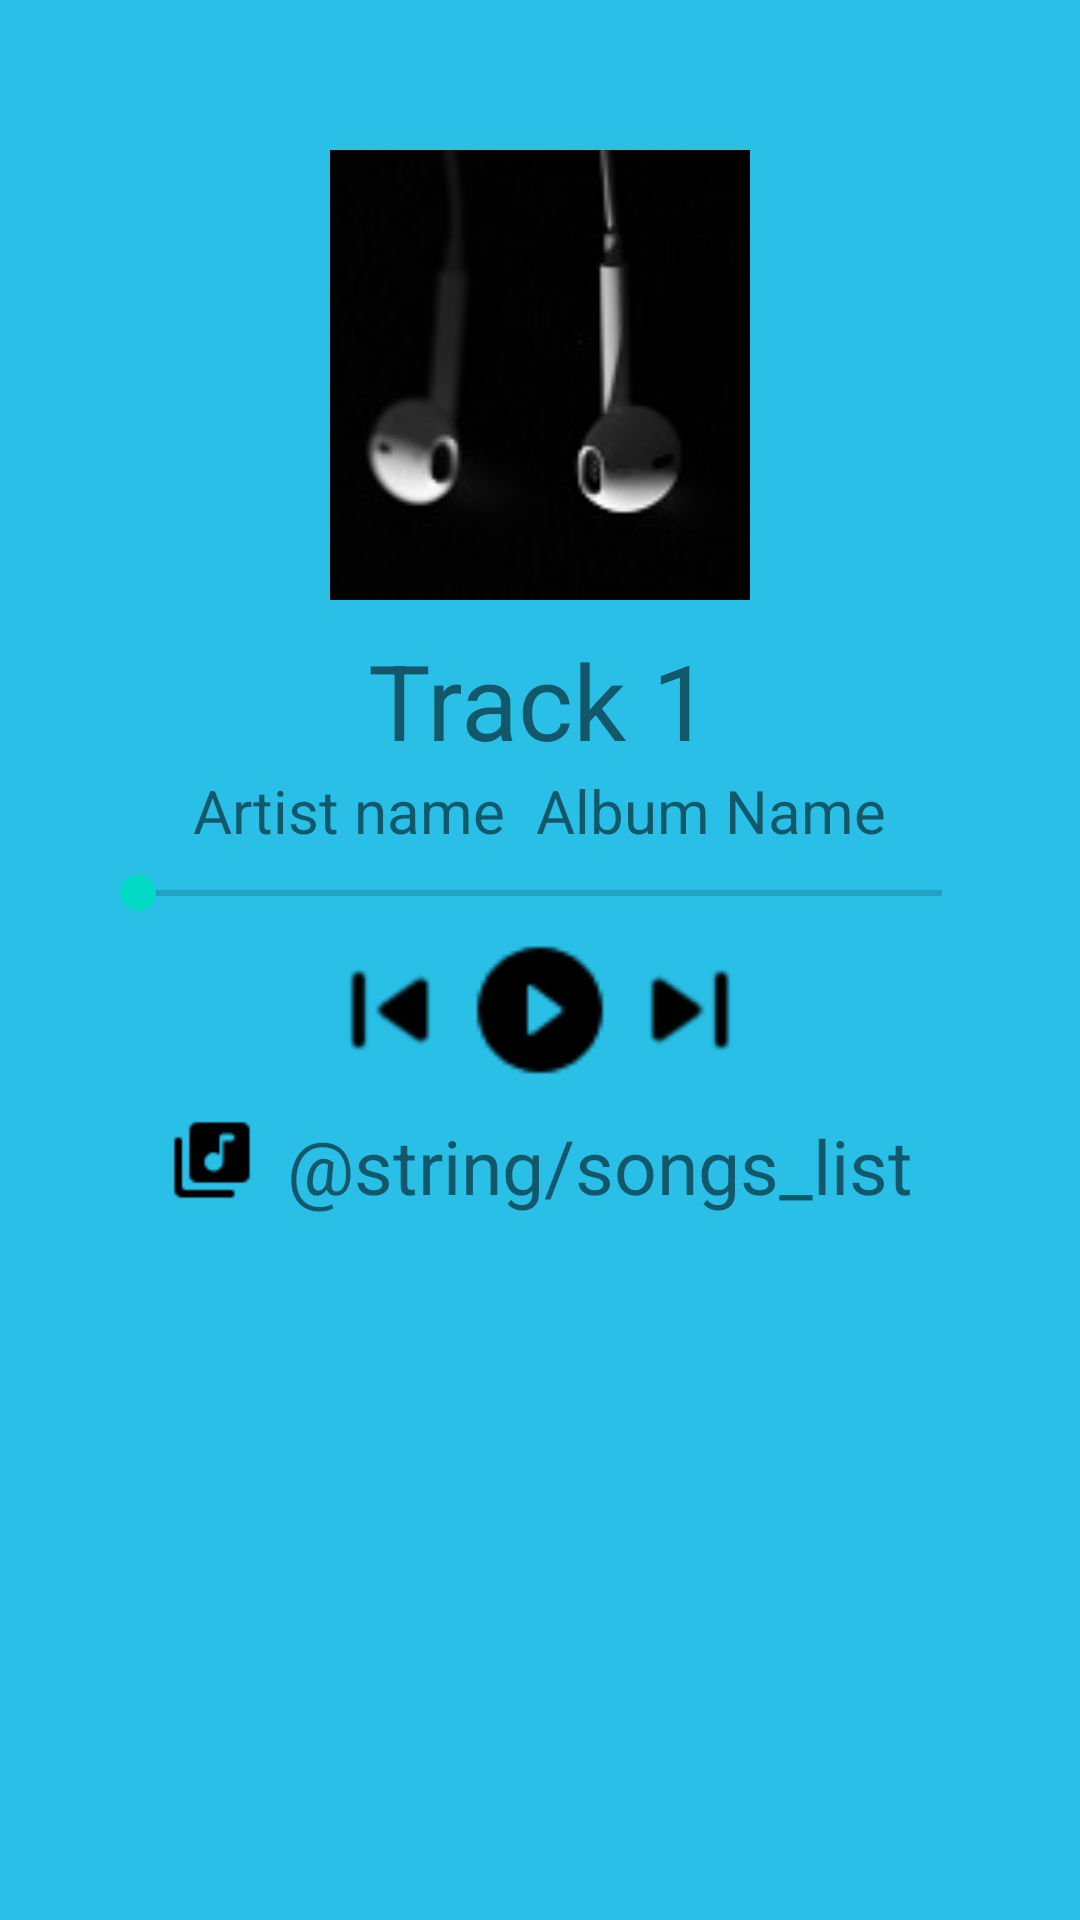

Where icons sit on this 1080px×1920px app screen, as [x1, y1, x2, y2]:
library music: [174, 1122, 250, 1198]
play circle: [476, 946, 604, 1074]
skip next: [650, 970, 730, 1050]
skip previous: [350, 970, 430, 1050]
